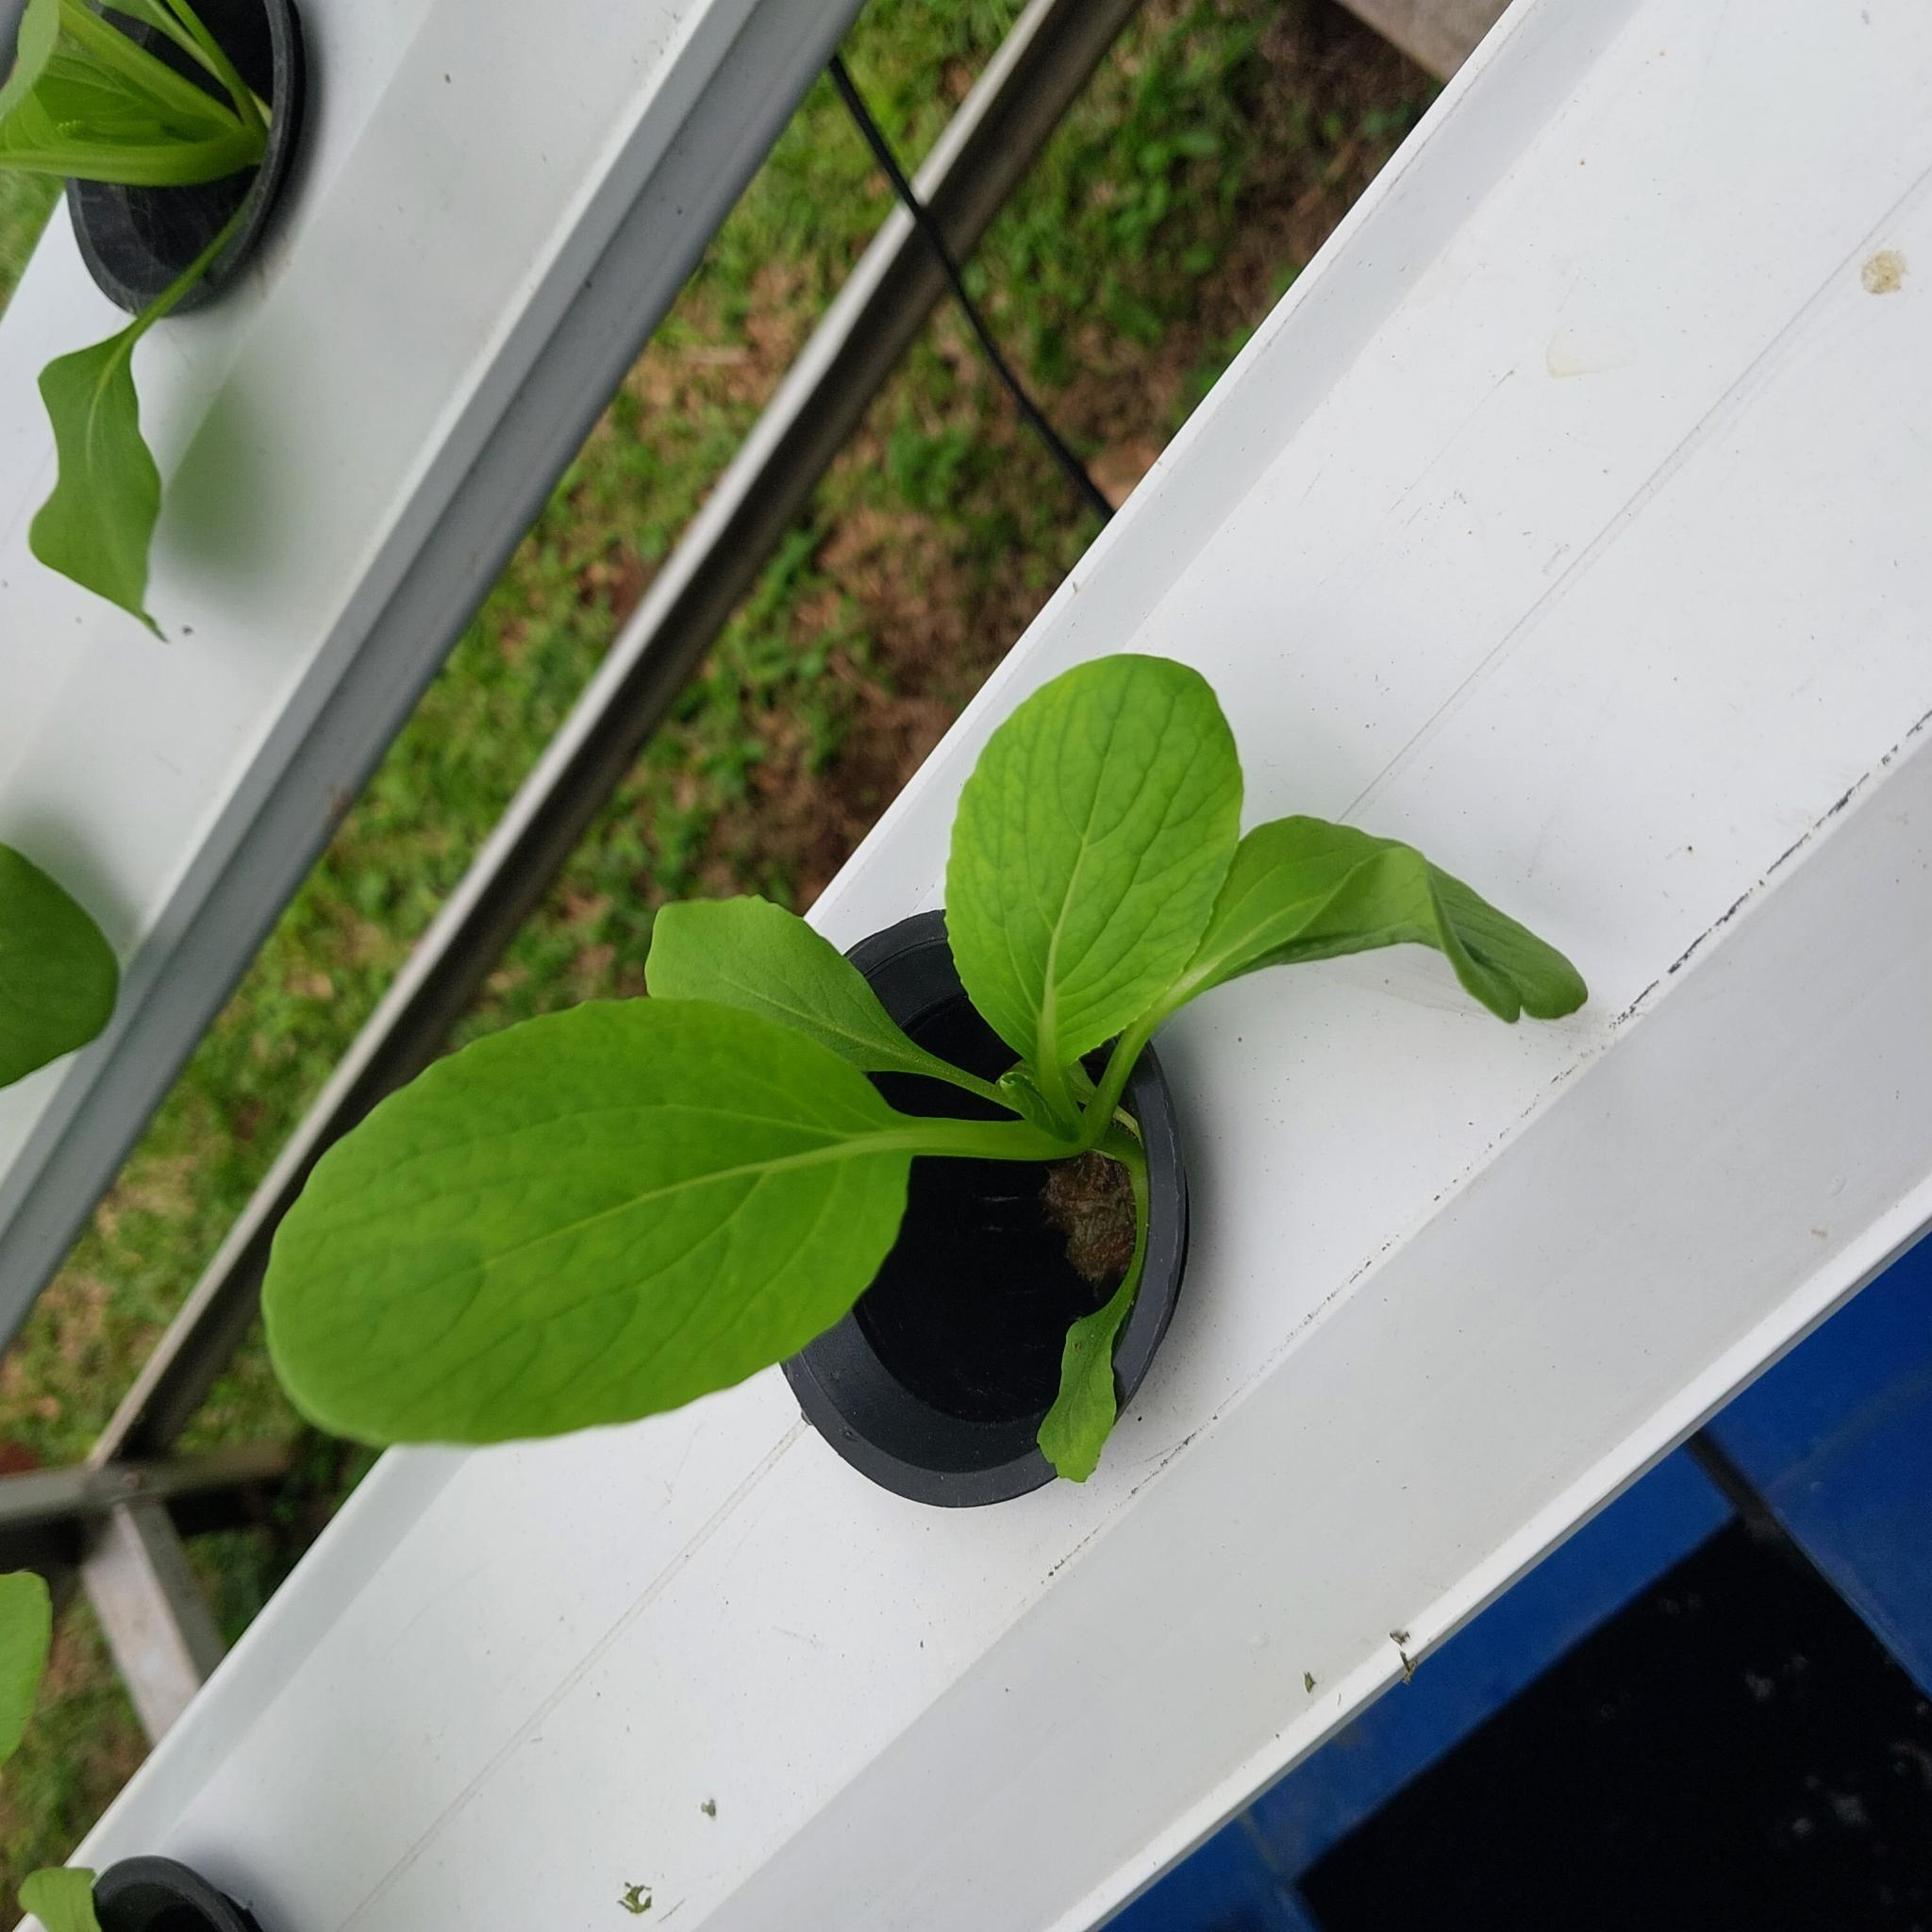Healthy-Pechay: (235, 978, 943, 1562), (955, 665, 1246, 1125), (0, 828, 145, 1100)
